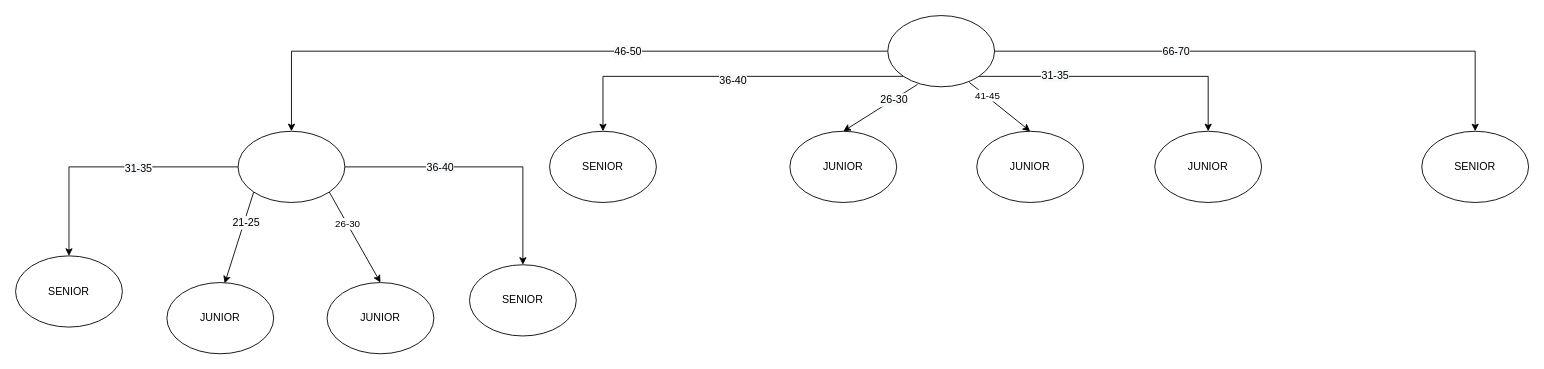
Some shapes in this 1544 by 369 pixel diagram are drawn without their labels. Here are the shapes that lost their labels. From the top down, the centre of each, then its label:
At [941,51]: "SALARY".
At [291,166]: "AGE".
